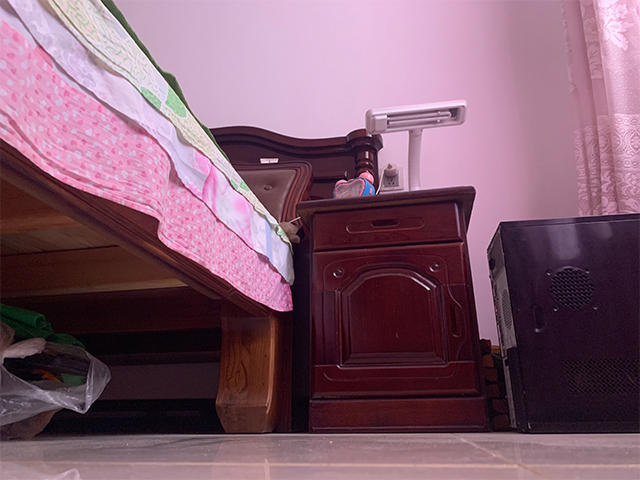bed: (1, 1, 385, 437)
cabinet: (295, 185, 492, 434)
